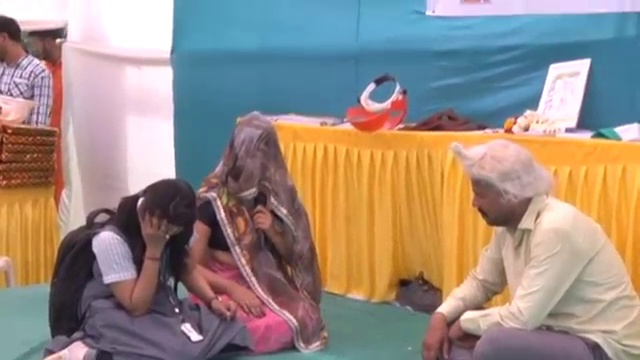helmet: (0, 93, 41, 128)
helmet_off: (459, 143, 545, 237), (223, 115, 282, 191), (125, 181, 193, 244), (25, 29, 65, 66), (0, 11, 21, 61)
person: (421, 137, 640, 360), (41, 180, 254, 360), (184, 115, 323, 346), (0, 27, 52, 130)
